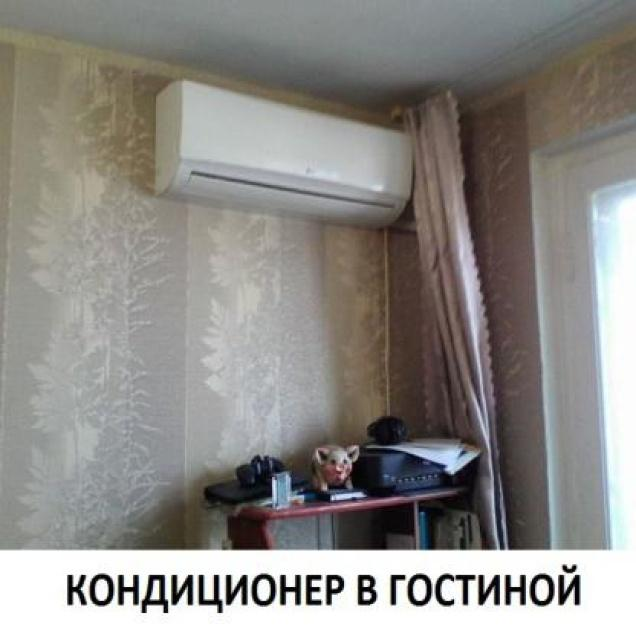AC: (151, 77, 413, 233)
